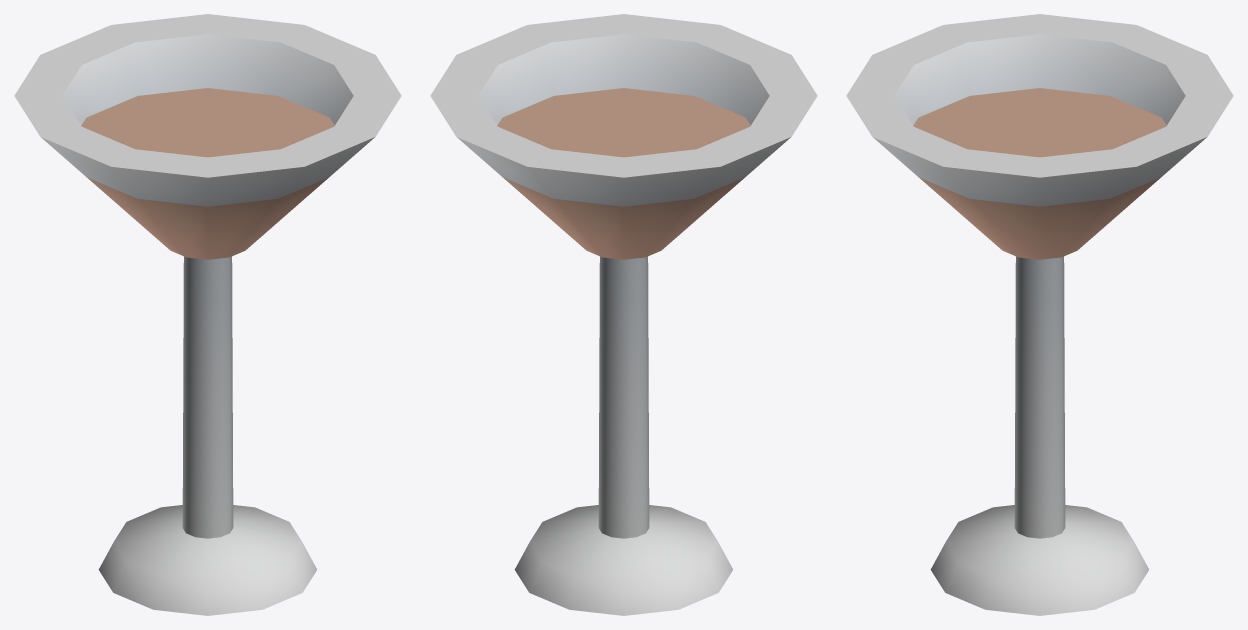
File: glass-martini-filled.glb
The picture shows the model from 3 angles, left to right: view 1: azimuth 30°, elevation 25°; view 2: azimuth 150°, elevation 25°; view 3: azimuth 270°, elevation 25°; orthographic projection.
Visible parts, largest first — view 1: glass-martini-filled; view 2: glass-martini-filled; view 3: glass-martini-filled.
Part boxes in pixels (left/top/right/bottom): glass-martini-filled: left=14, top=14, right=401, bottom=615; glass-martini-filled: left=430, top=14, right=817, bottom=615; glass-martini-filled: left=846, top=14, right=1233, bottom=615.
Size of the model in its own units: 0.1914 by 0.2584 by 0.1914.
